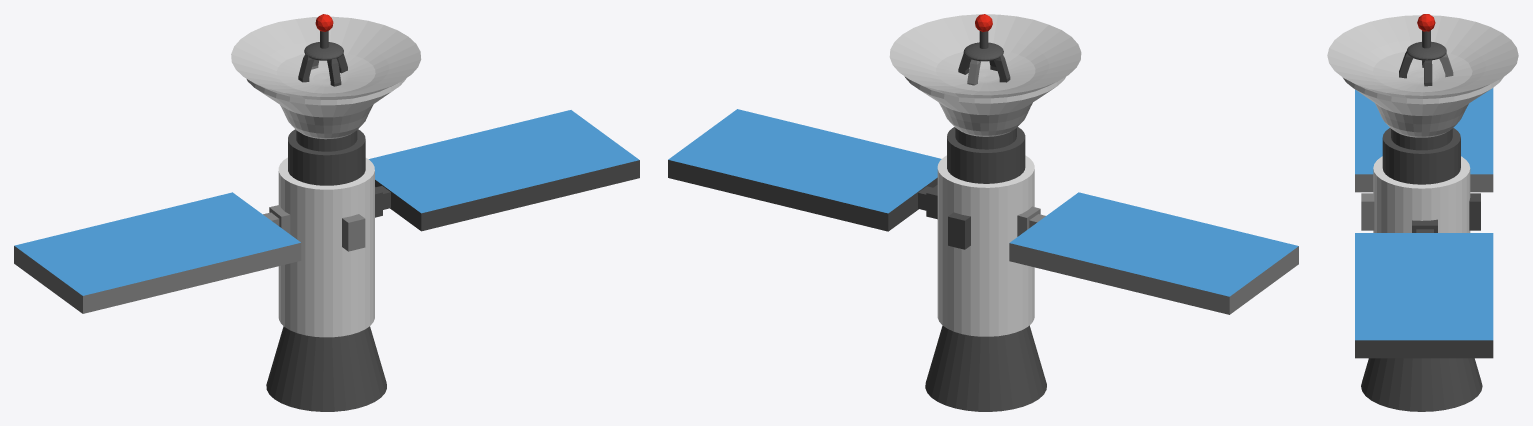
Rendered from satellite.fbx.
3 renders of one model, left to right at view 1: azimuth 30°, elevation 25°; view 2: azimuth 150°, elevation 25°; view 3: azimuth 270°, elevation 25°, orthographic.
Parts seen in each view (by area): view 1: satellite; view 2: satellite; view 3: satellite.
Boxes of the visible parts, box(x1,y1,x2,y2) form: satellite: box(14, 14, 639, 411); satellite: box(668, 14, 1298, 411); satellite: box(1327, 14, 1518, 411).
Size of the model in its own units: 1333 by 846 by 395.
